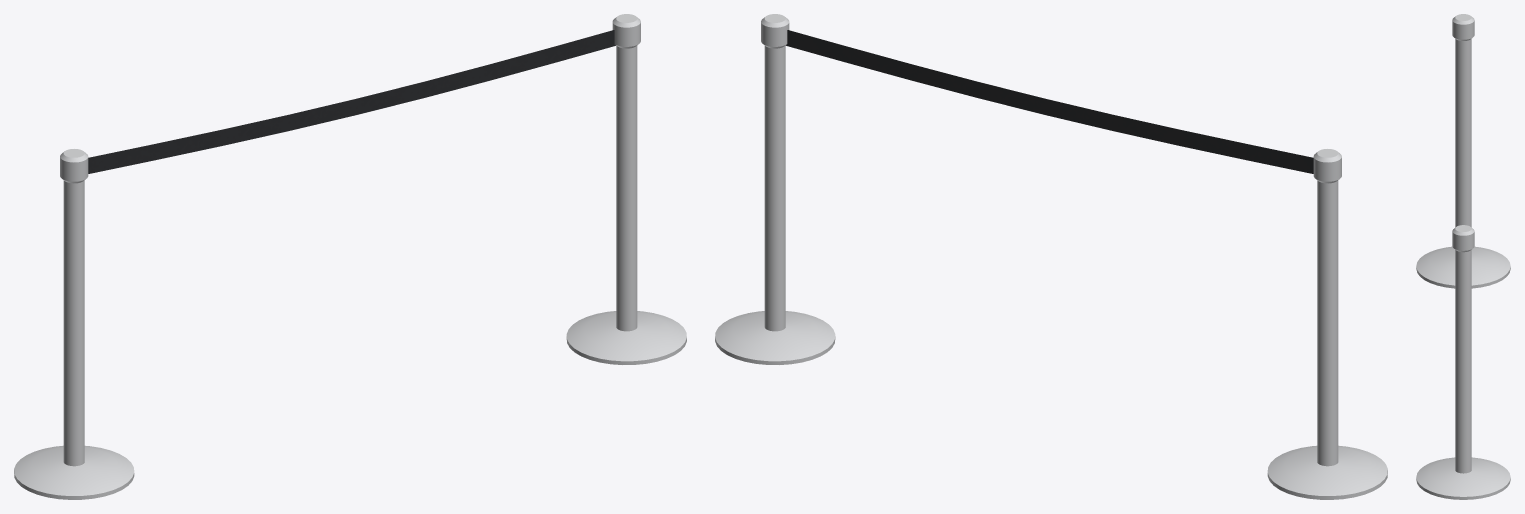
Rendered from SM_QUE_Stanchion_Belt.fbx.
The picture shows the model from 3 angles, left to right: view 1: azimuth 30°, elevation 25°; view 2: azimuth 150°, elevation 25°; view 3: azimuth 270°, elevation 25°; orthographic projection. The views are drawn at different scales.
Visible parts, largest first — view 1: SM_QUE_Stanchion_Belt; view 2: SM_QUE_Stanchion_Belt; view 3: SM_QUE_Stanchion_Belt.
Part boxes in pixels (left/top/right/bottom): SM_QUE_Stanchion_Belt: left=14, top=14, right=686, bottom=499; SM_QUE_Stanchion_Belt: left=715, top=14, right=1387, bottom=499; SM_QUE_Stanchion_Belt: left=1416, top=14, right=1510, bottom=499.
Size of the model in its own units: 2.14 by 1 by 0.34.
